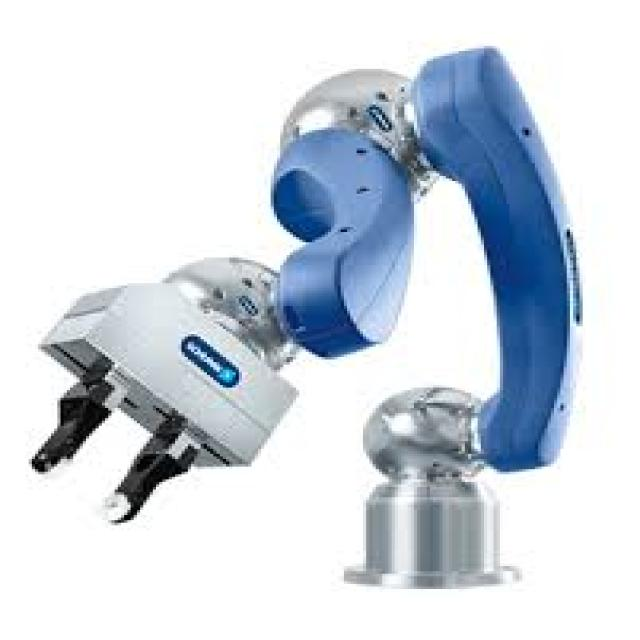Robotic-arm: (25, 36, 604, 605)
